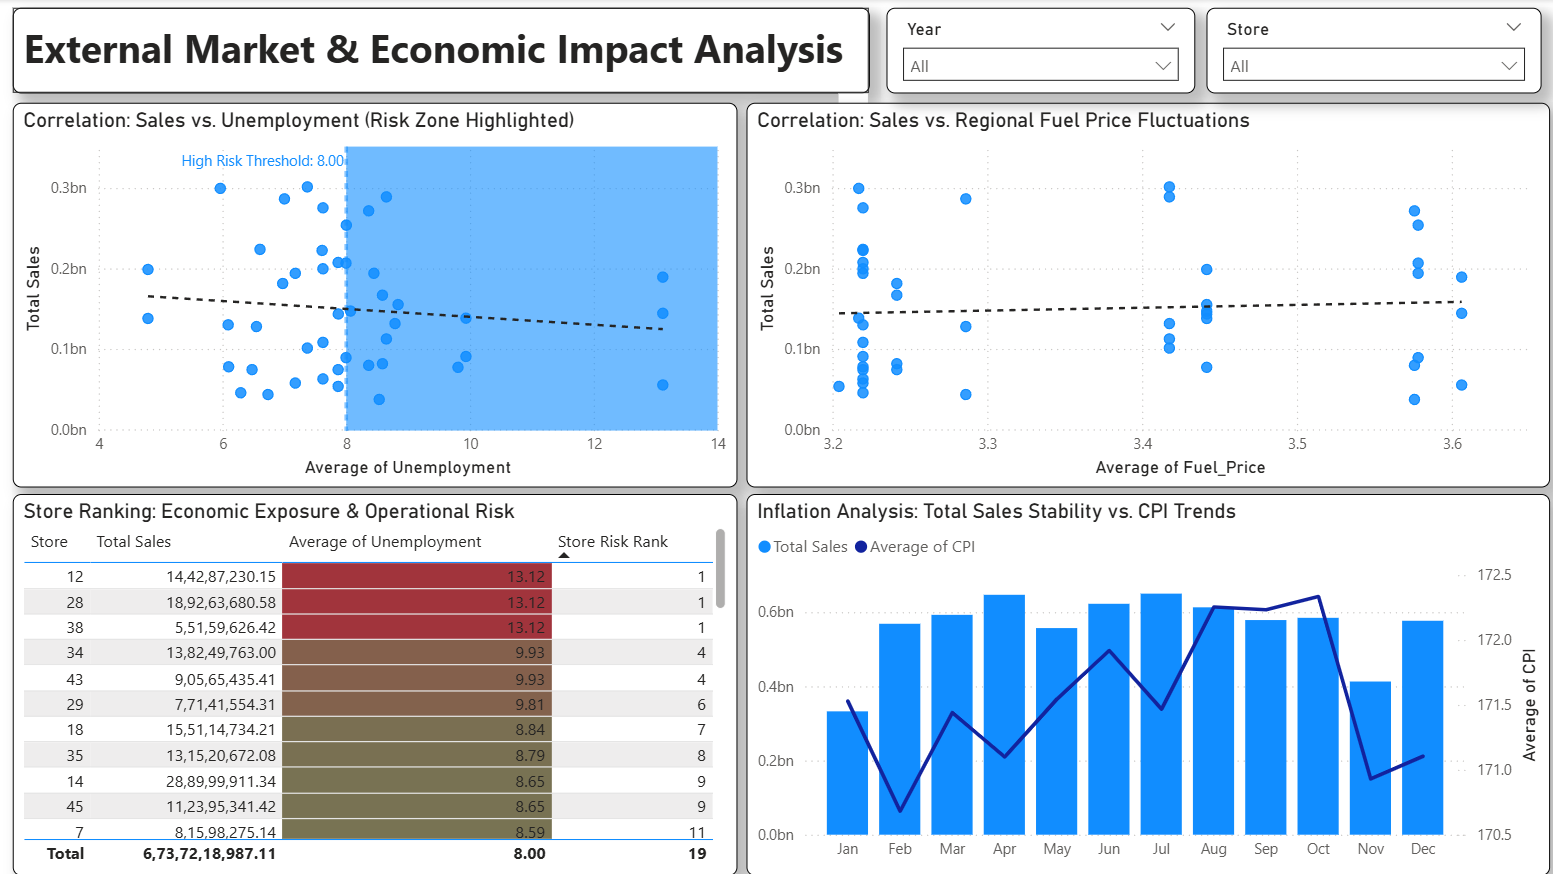

The page's visual inventory and layout, read from the dashboard file:
{"tool":"powerbi","page":{"name":"Page 3","canvas":[1280,720],"ordinal":2},"visuals":[{"type":"textbox","box":[11.2,7.5,703.8,70],"z":0},{"type":"scatterChart","title":"Correlation: Sales vs. Unemployment (Risk Zone Highlighted)","fields":{"X":["Avg(walmart_cleaned.Unemployment)"],"Y":["Measures (2).Total Sales"],"Category":["walmart_cleaned.Store"]},"box":[11.2,85,595,316.2],"z":1000},{"type":"tableEx","title":"Store Ranking: Economic Exposure & Operational Risk","fields":{"Values":["walmart_cleaned.Store","Measures (2).Total Sales","Avg(walmart_cleaned.Unemployment)","Measures (2).Store Risk Rank"]},"box":[11.2,406.2,595,313.8],"z":2000},{"type":"scatterChart","title":"Correlation: Sales vs. Regional Fuel Price Fluctuations","fields":{"X":["Avg(walmart_cleaned.Fuel_Price)"],"Y":["Measures (2).Total Sales"],"Category":["walmart_cleaned.Store"]},"box":[614,85,660,316.2],"z":3000},{"type":"lineStackedColumnComboChart","title":"Inflation Analysis: Total Sales Stability vs. CPI Trends","fields":{"Category":["vw_dim_date.Month_Short"],"Y":["Measures (2).Total Sales"],"Y2":["Avg(walmart_cleaned.CPI)"]},"box":[613.8,406.2,660,313.8],"z":4000},{"type":"slicer","fields":{"Values":["vw_dim_date.Year"]},"box":[728.8,7.5,253.8,70],"z":5000},{"type":"slicer","fields":{"Values":["walmart_cleaned.Store"]},"box":[991.2,7.5,275,70],"z":6000},{"type":"actionButton","box":[0,0,100,40],"z":7000}]}

Visuals, with their boxes in screenshot pixels (x1, y1, x2, y2), scaled from the page's 1280x720 canvas onto the 1553x874 screenshot:
textbox: [14,9,867,94]
"Correlation: Sales vs. Unemployment (Risk Zone Highlighted)" scatterChart: [14,103,735,487]
"Store Ranking: Economic Exposure & Operational Risk" tableEx: [14,493,735,873]
"Correlation: Sales vs. Regional Fuel Price Fluctuations" scatterChart: [745,103,1546,487]
"Inflation Analysis: Total Sales Stability vs. CPI Trends" lineStackedColumnComboChart: [745,493,1545,873]
slicer - vw_dim_date.Year: [884,9,1192,94]
slicer - walmart_cleaned.Store: [1203,9,1536,94]
actionButton: [0,0,121,49]
